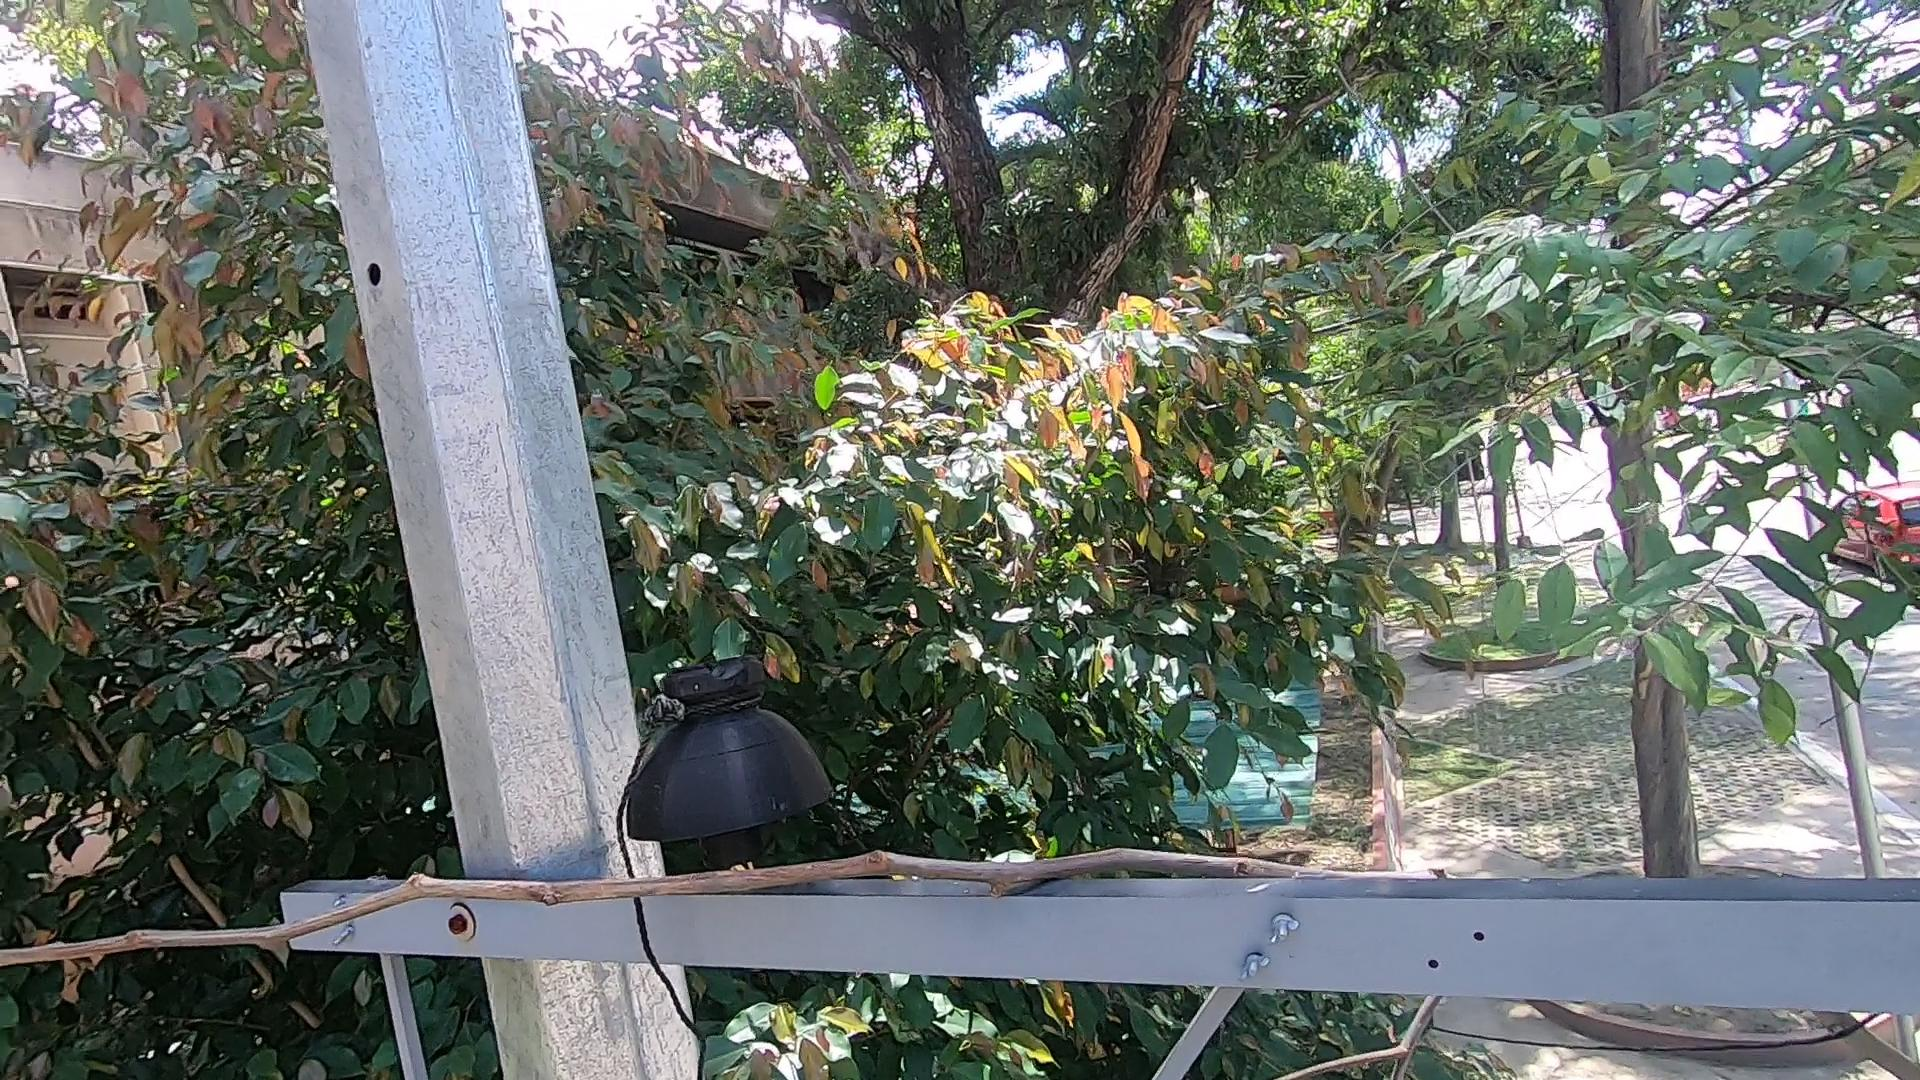tree branch: (1, 839, 1422, 1009), (1261, 994, 1440, 1080), (1818, 1007, 1915, 1080)
